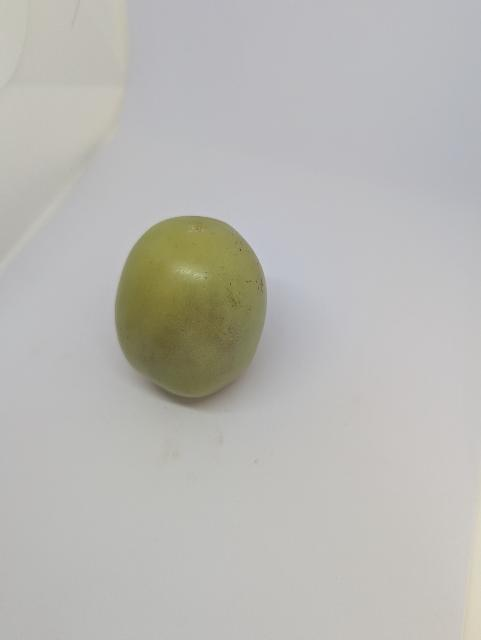green: (108, 209, 282, 404)
